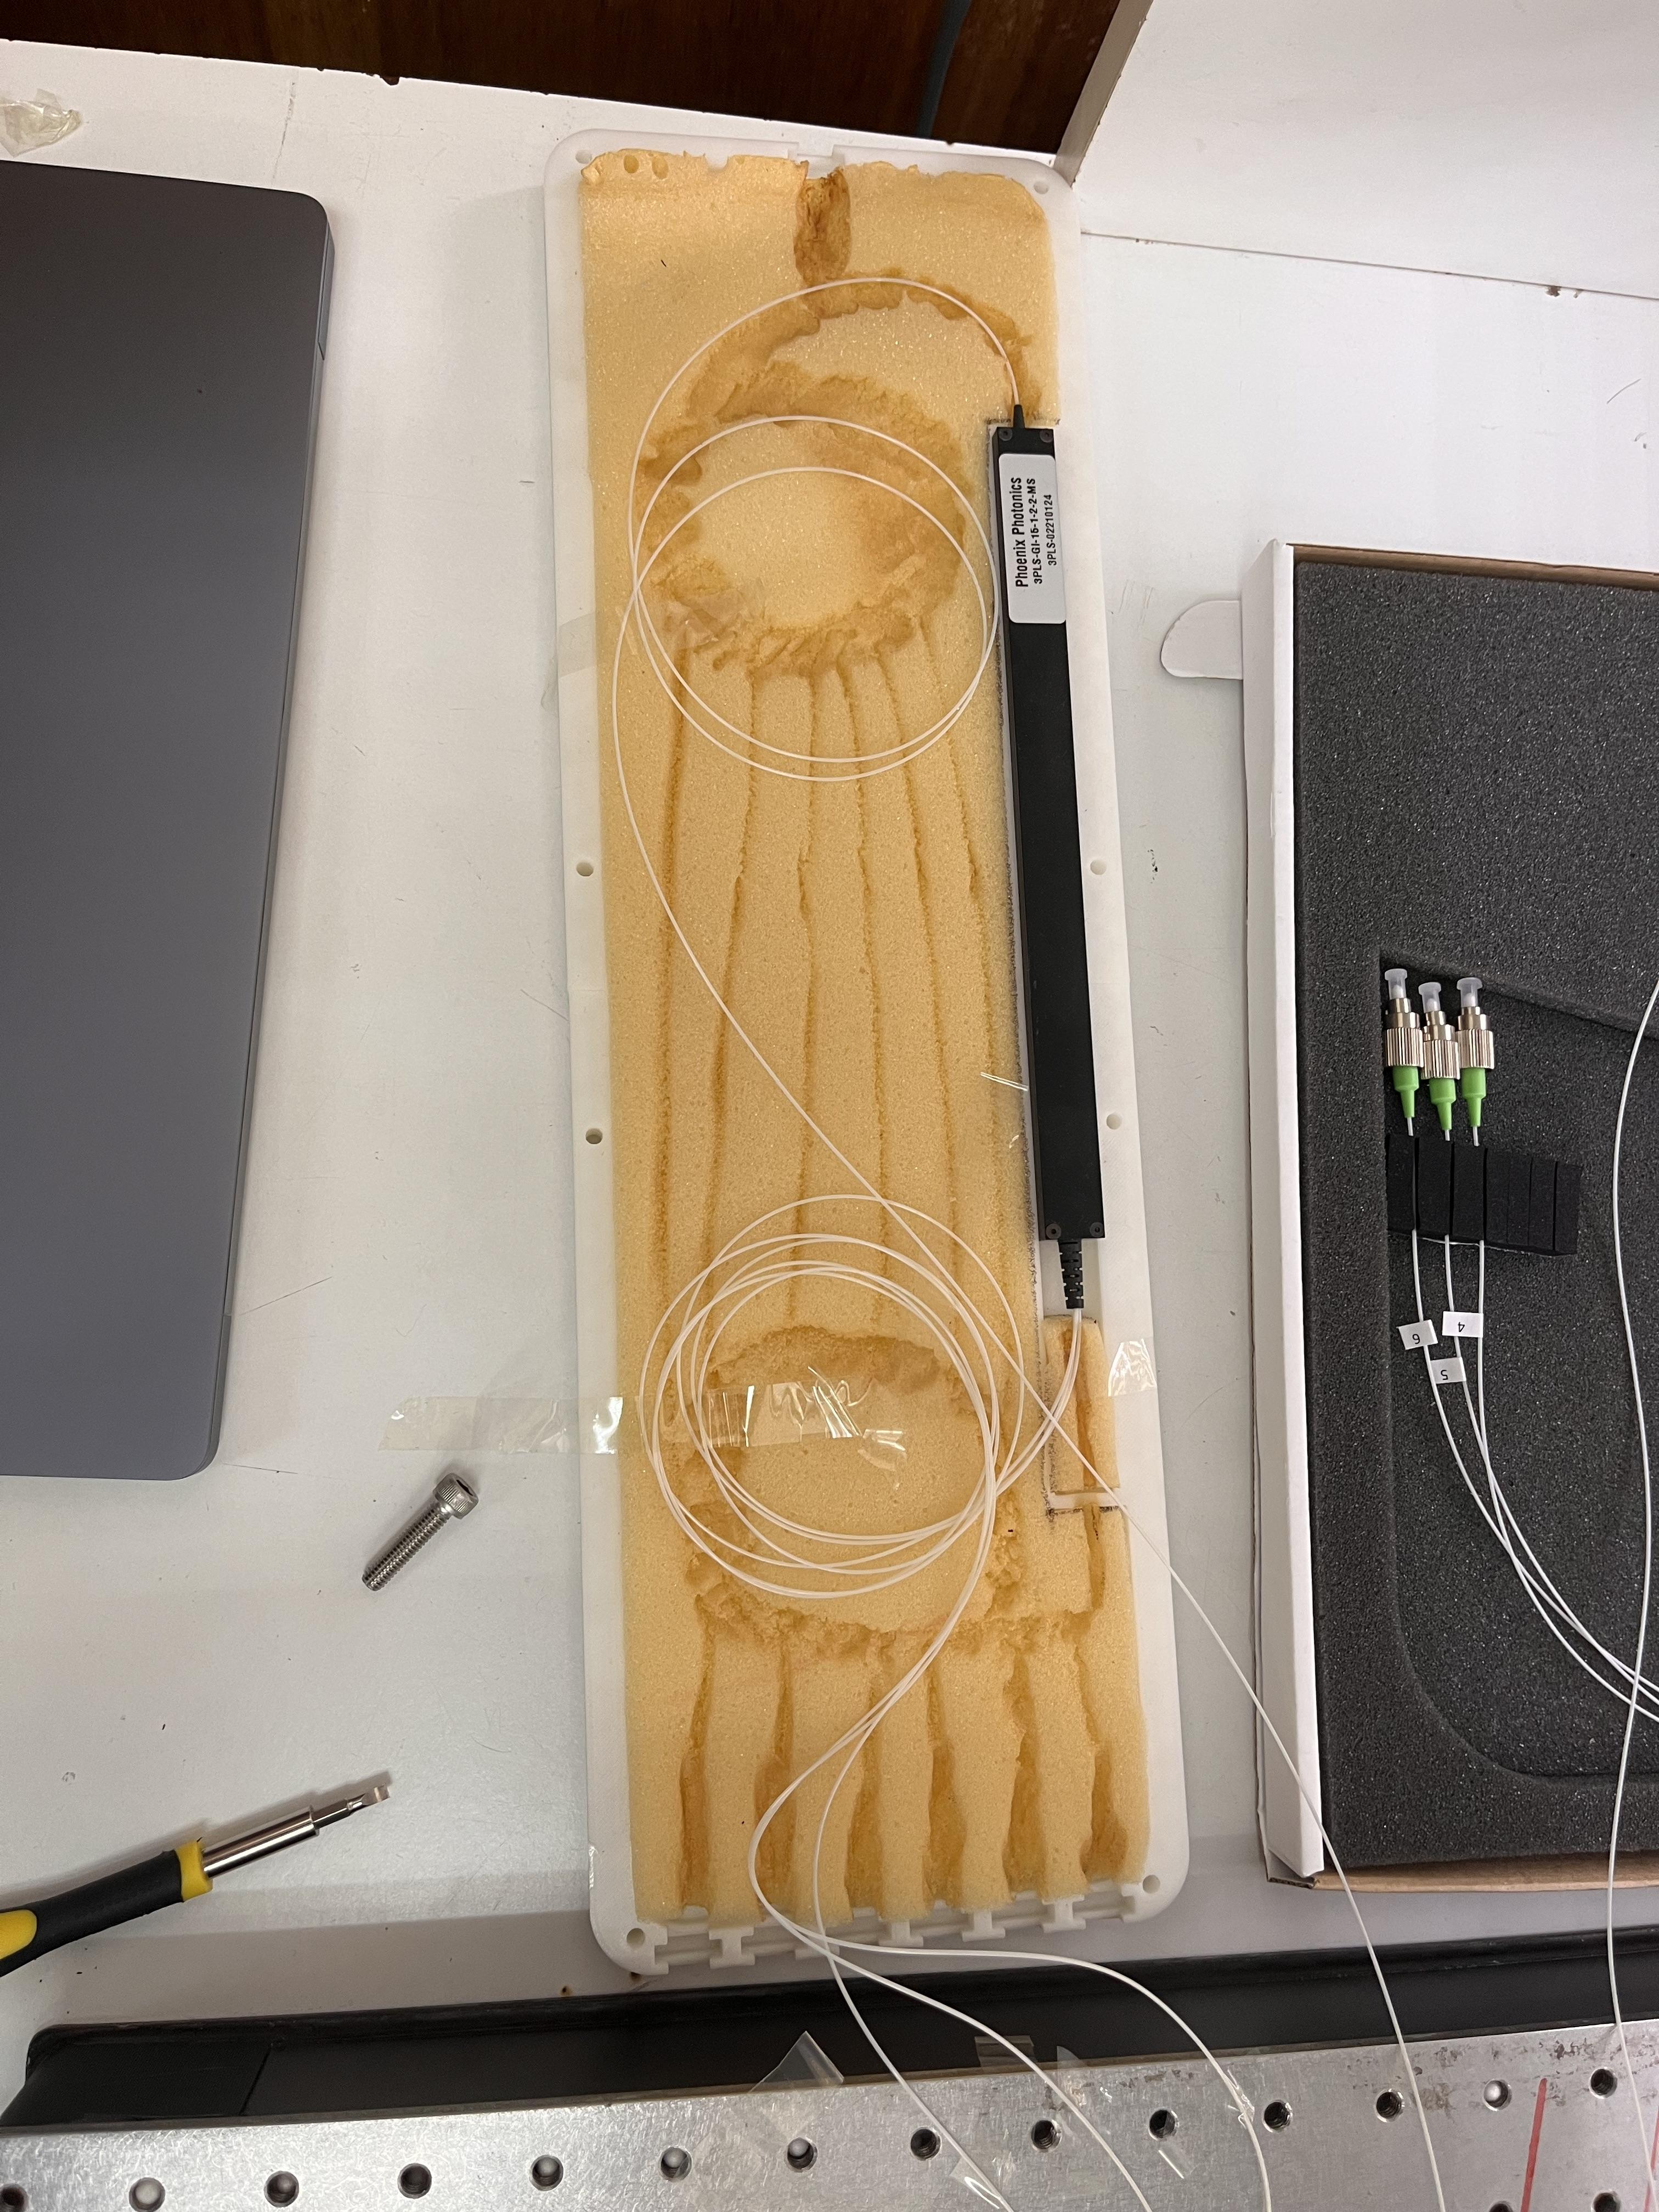fiber_cable: (603, 268, 1089, 1608)
